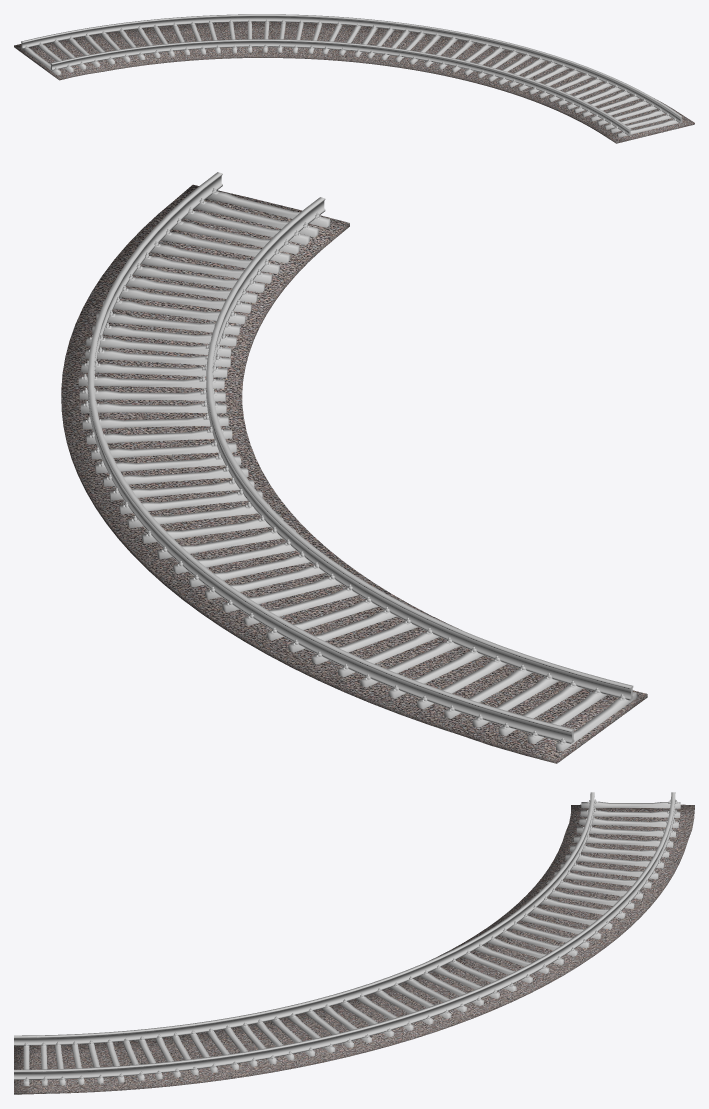
The model's file is track_left1_wood.fbx.
3 renders of one model, top to bottom at view 1: azimuth 30°, elevation 25°; view 2: azimuth 150°, elevation 25°; view 3: azimuth 270°, elevation 25°, orthographic. The views are drawn at different scales.
Parts seen in each view (by area): view 1: ground, rails, wood; view 2: ground, wood, rails; view 3: ground, wood, rails.
Boxes of the visible parts, x1,y1,x2,y2 form: ground: (14, 22, 694, 143); rails: (21, 14, 682, 135); wood: (21, 22, 682, 137); ground: (61, 184, 647, 763); wood: (78, 191, 636, 751); rails: (81, 172, 633, 744); ground: (14, 804, 694, 1094); wood: (23, 801, 680, 1085); rails: (14, 792, 678, 1081).
Bounding box in the file's own units: 15.65 × 0.3814 × 15.67.
